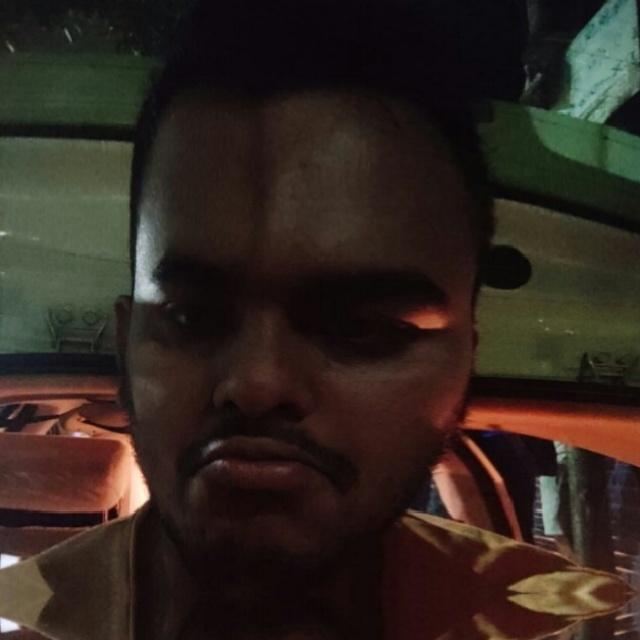Sad: (80, 37, 522, 594)
